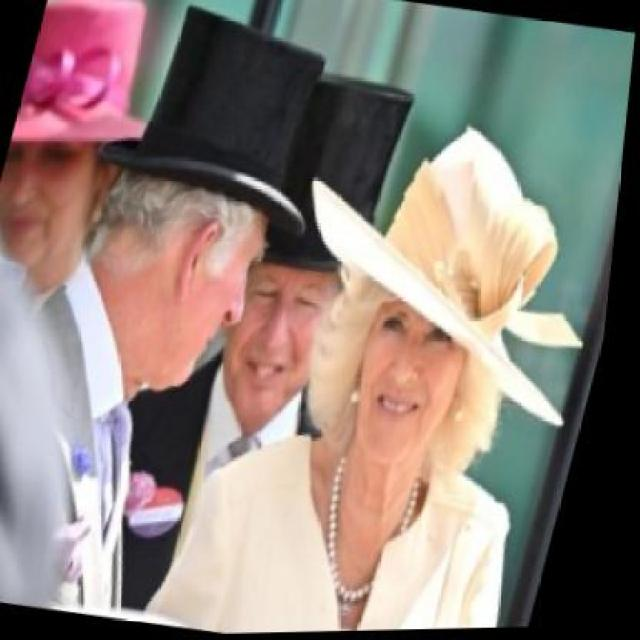hat: (260, 99, 631, 441), (81, 0, 364, 238), (237, 57, 428, 281)
